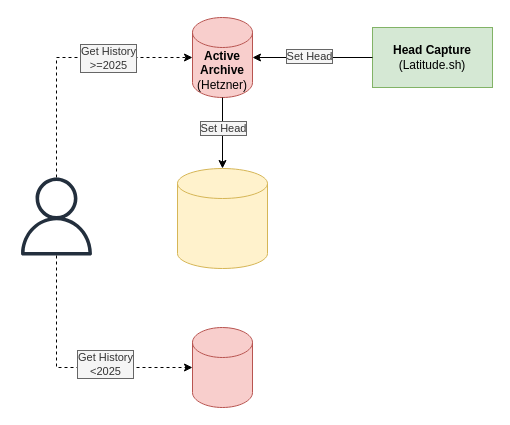
Some shapes in this 510 by 425 pixel diagram are drawn without their labels. The shapes that lost their labels are listed below. From the top down, each one's centre as x and y in pixels, then its label:
[222,218]: Full-History Replica (Artnet)
[222,367]: Historical Archive (Hetzner)
